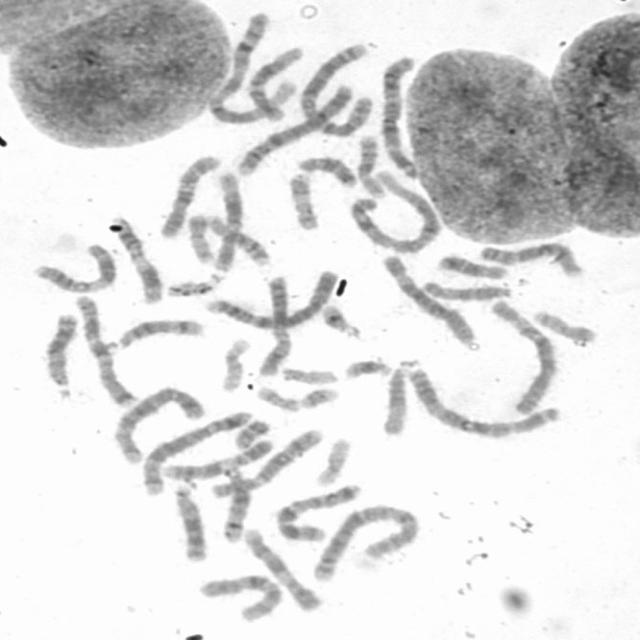A1: (200, 7, 293, 125), (342, 165, 444, 255)
A2: (304, 498, 424, 584), (292, 37, 377, 138)
A3: (398, 360, 563, 440), (374, 50, 423, 179)
B4: (229, 76, 359, 177), (199, 263, 340, 331)
B5: (134, 404, 256, 499), (106, 380, 208, 466)
C10: (153, 148, 223, 240), (192, 568, 286, 624)
C11: (103, 210, 165, 305), (26, 237, 119, 294)
C12: (241, 40, 307, 122), (205, 167, 245, 275)
C6: (375, 248, 480, 347), (484, 294, 560, 416)
C7: (68, 288, 140, 408), (268, 477, 365, 543)
C8: (206, 428, 332, 498), (473, 236, 586, 279)
C9: (237, 522, 325, 614), (154, 434, 277, 482)
D13: (38, 307, 80, 396), (167, 477, 210, 563)
D14: (108, 312, 206, 351), (212, 460, 253, 546)
D15: (375, 358, 413, 438), (415, 274, 516, 302)
E16: (203, 217, 277, 267), (351, 129, 388, 199)
E17: (281, 166, 323, 232), (250, 388, 344, 413)
E18: (290, 150, 360, 189), (430, 248, 510, 280)
F19: (213, 331, 254, 393), (310, 432, 354, 488)
F20: (524, 303, 600, 345), (181, 208, 216, 264)
G21: (314, 298, 362, 338), (337, 352, 395, 381)
G22: (160, 270, 224, 298), (274, 360, 339, 386)
X: (252, 270, 295, 378)
Y: (228, 413, 273, 450)
